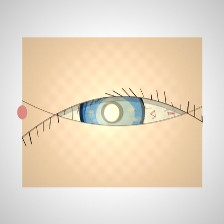corneal_ulcer: (84, 89, 147, 140)
